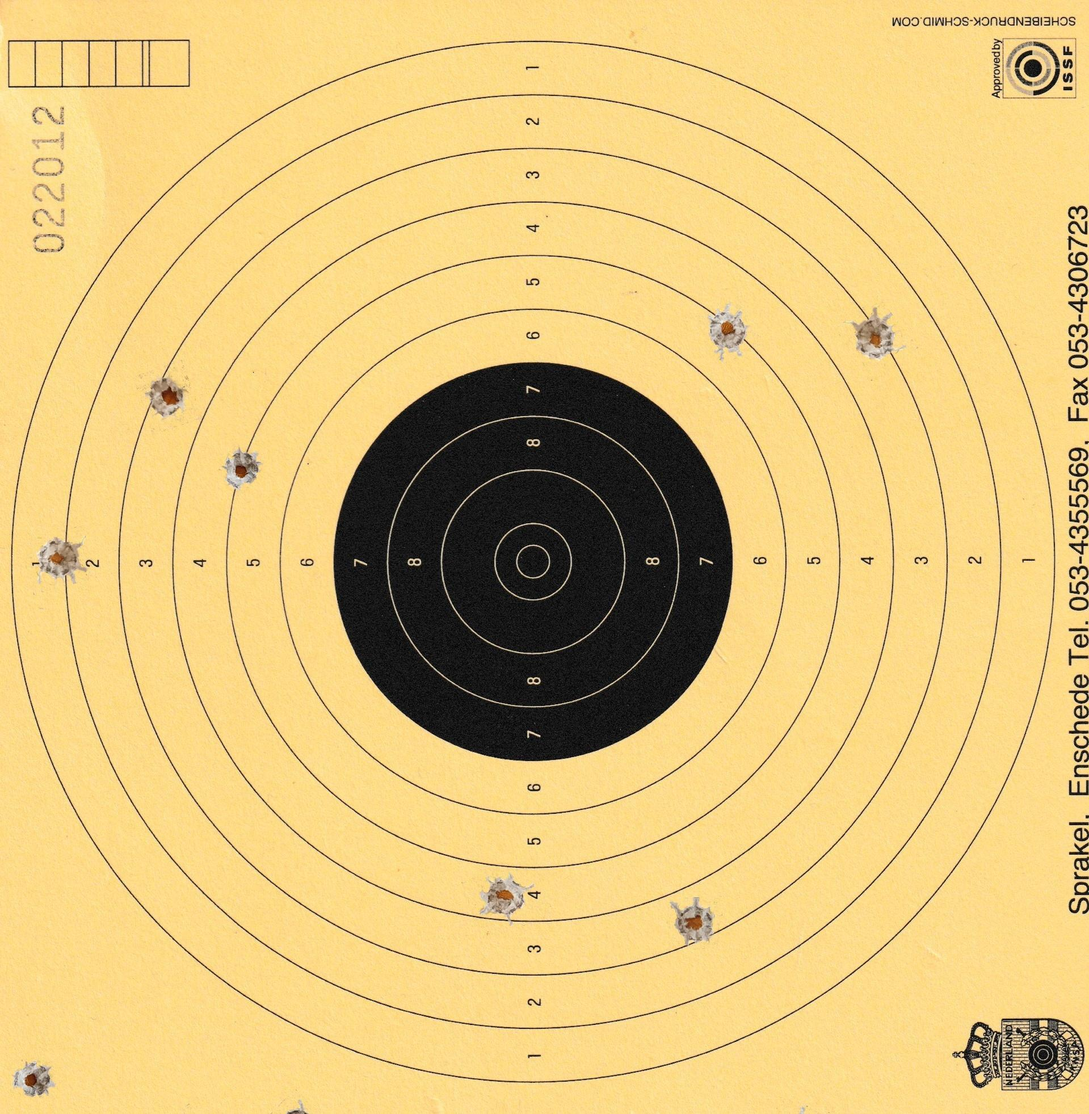hole: (662, 899, 723, 948), (850, 309, 903, 359), (701, 305, 750, 353), (481, 877, 530, 923), (146, 371, 191, 418), (37, 538, 81, 585), (11, 1060, 59, 1099), (219, 448, 262, 490), (275, 1098, 321, 1114)
